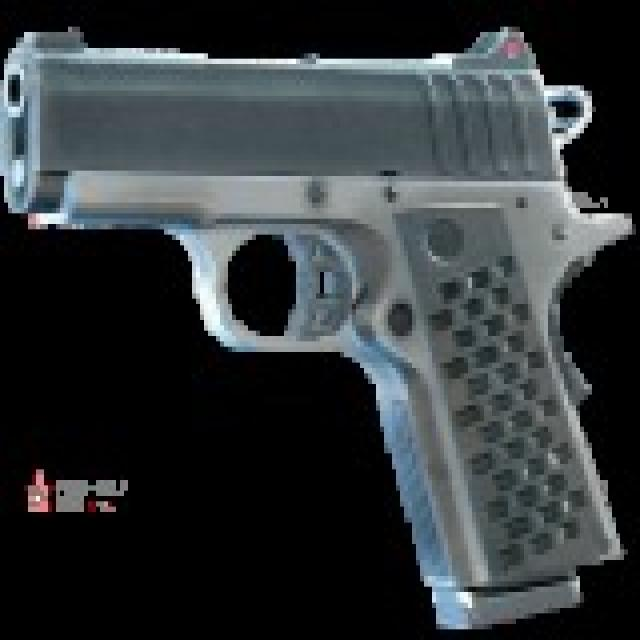Gun: (4, 20, 619, 617)
